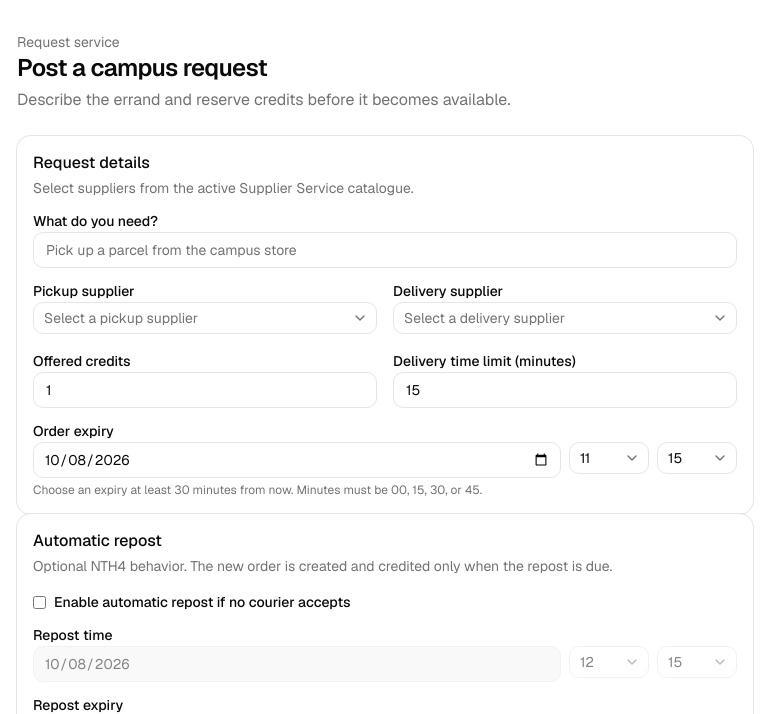
request creation quarter-hour time integration › shows only the actual same-supplier error inline and does not post
The width and height of the screenshot is (771, 714).
Type "Parcel" into the field labelled "What do you need?" at (385, 250), box 33,232 -> 737,268
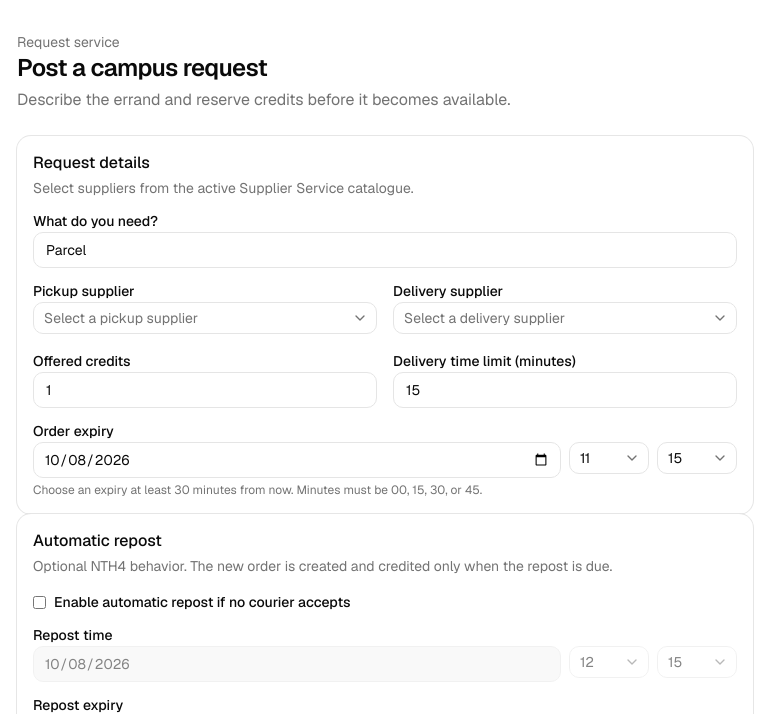
Click the dropdown labelled "Select a pickup supplier ▼" at (121, 318), box 33,302 -> 377,334
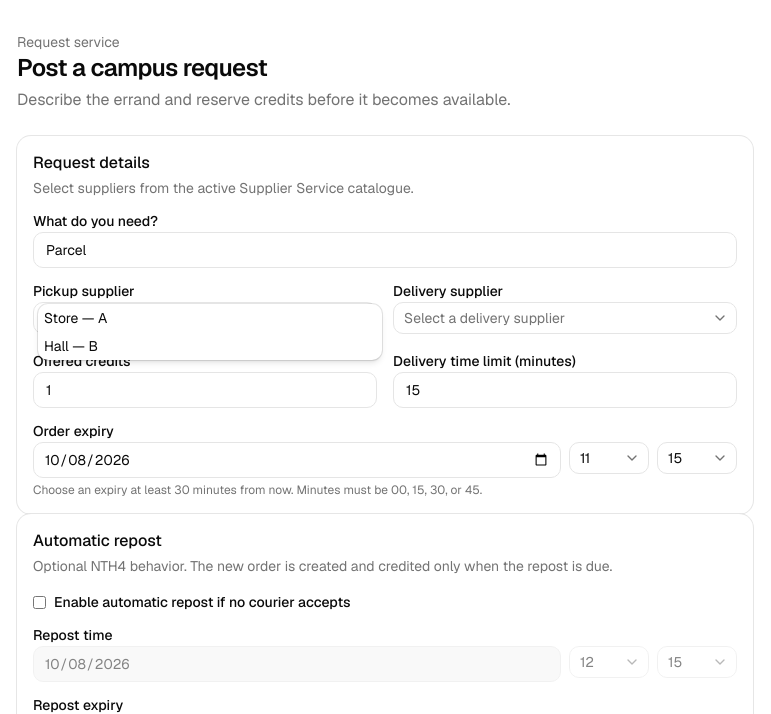
Click the option "Store — A" at (76, 318), box 44,309 -> 107,327
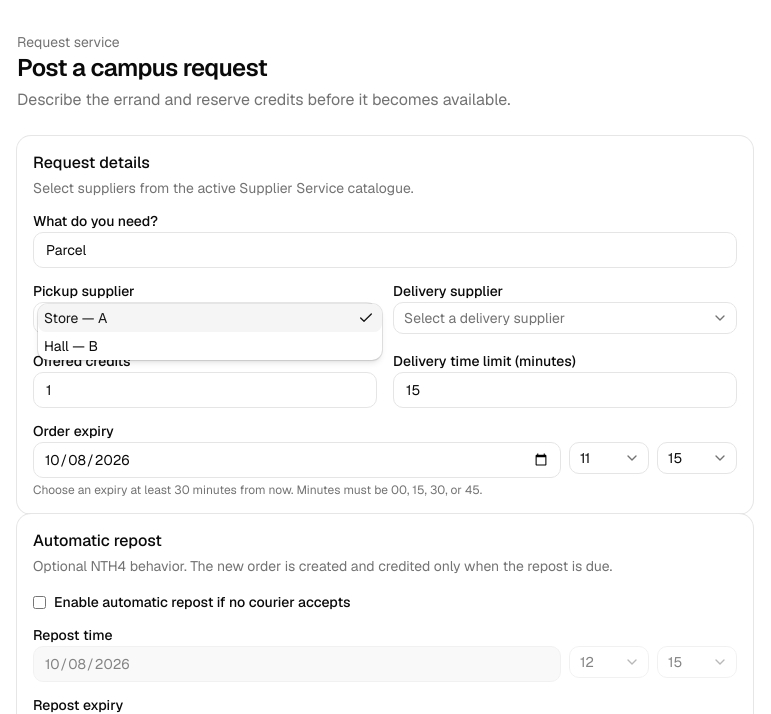
Click the dropdown labelled "Select a delivery supplier ▼" at (565, 318), box 393,302 -> 737,334
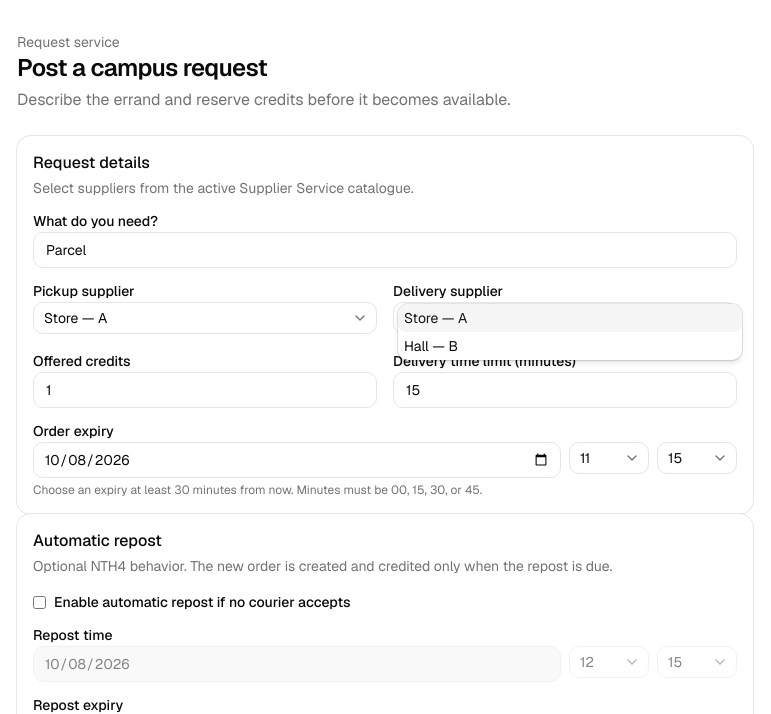
Click the option "Store — A" at (436, 318), box 398,304 -> 742,332
(page scrolled)
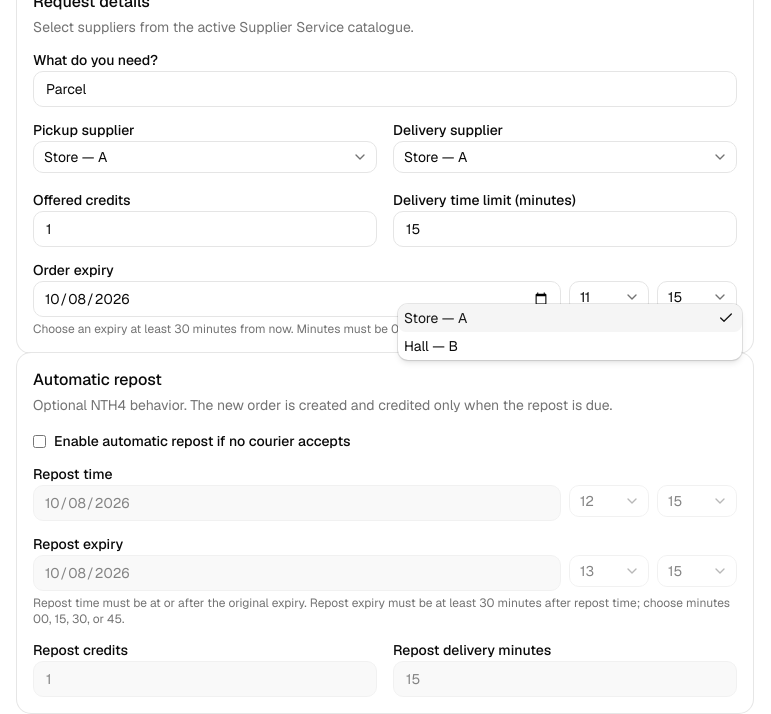
Submit the form named "Post request form"
(page scrolled)
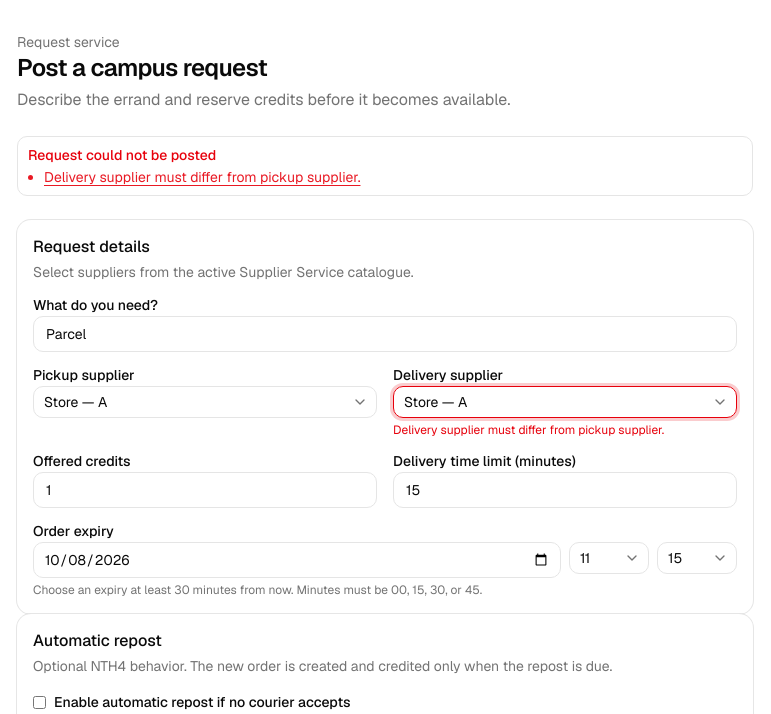
Expected: the message does not show "Expiry", 17,136 -> 753,196
Expected: the message shows "Delivery supplier must differ from pickup supplier.", 44,168 -> 360,186
